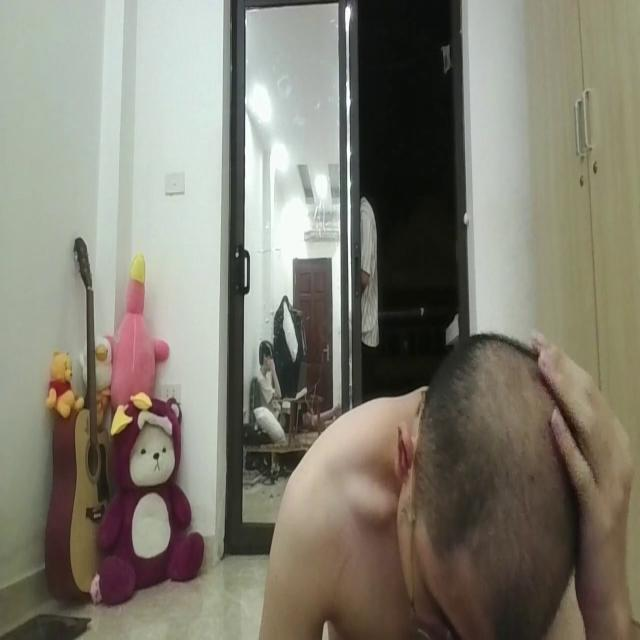extra_person: (351, 149, 385, 396), (247, 318, 307, 453)
student: (259, 322, 640, 640)
